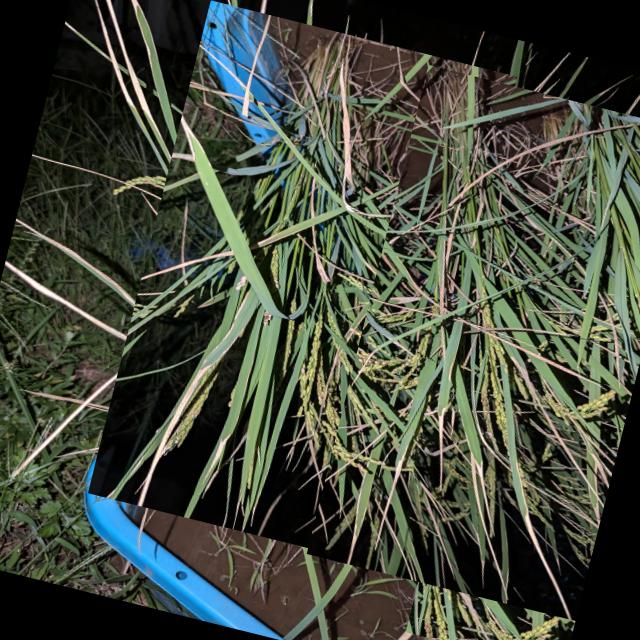9month_ine: (87, 0, 517, 569), (306, 64, 640, 620), (405, 269, 640, 640)
